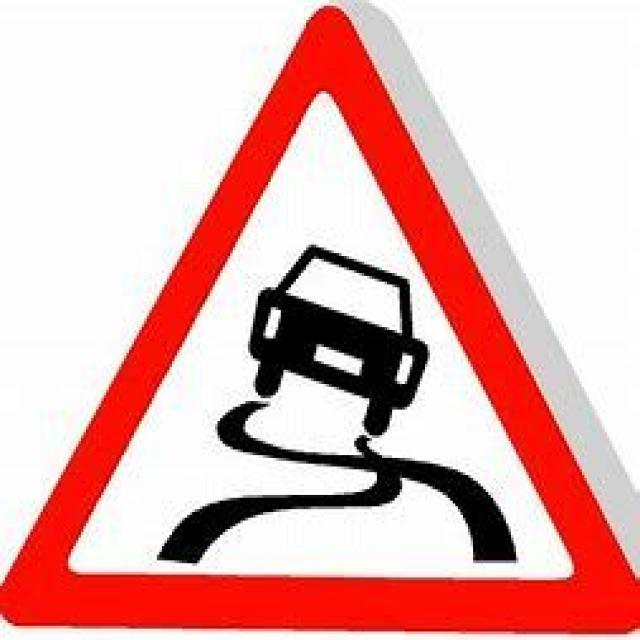slippery road: (16, 23, 621, 615)
